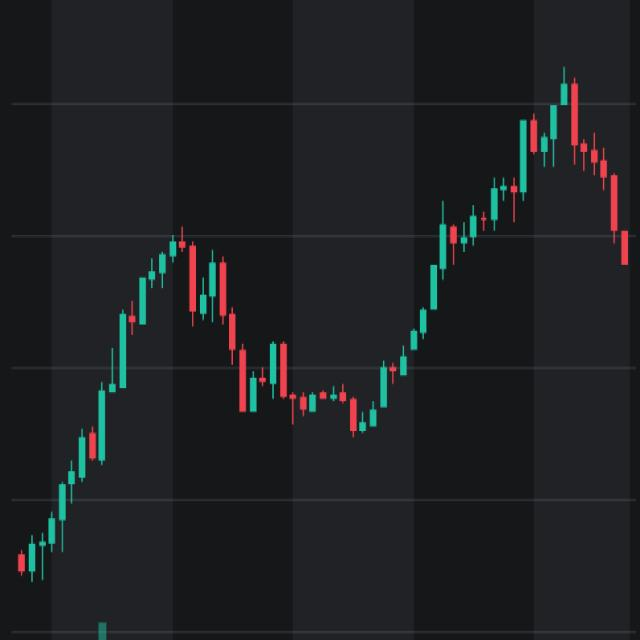Channel-up: (319, 33, 586, 499), (6, 178, 195, 632)
